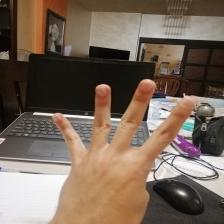four: (54, 77, 193, 216)
